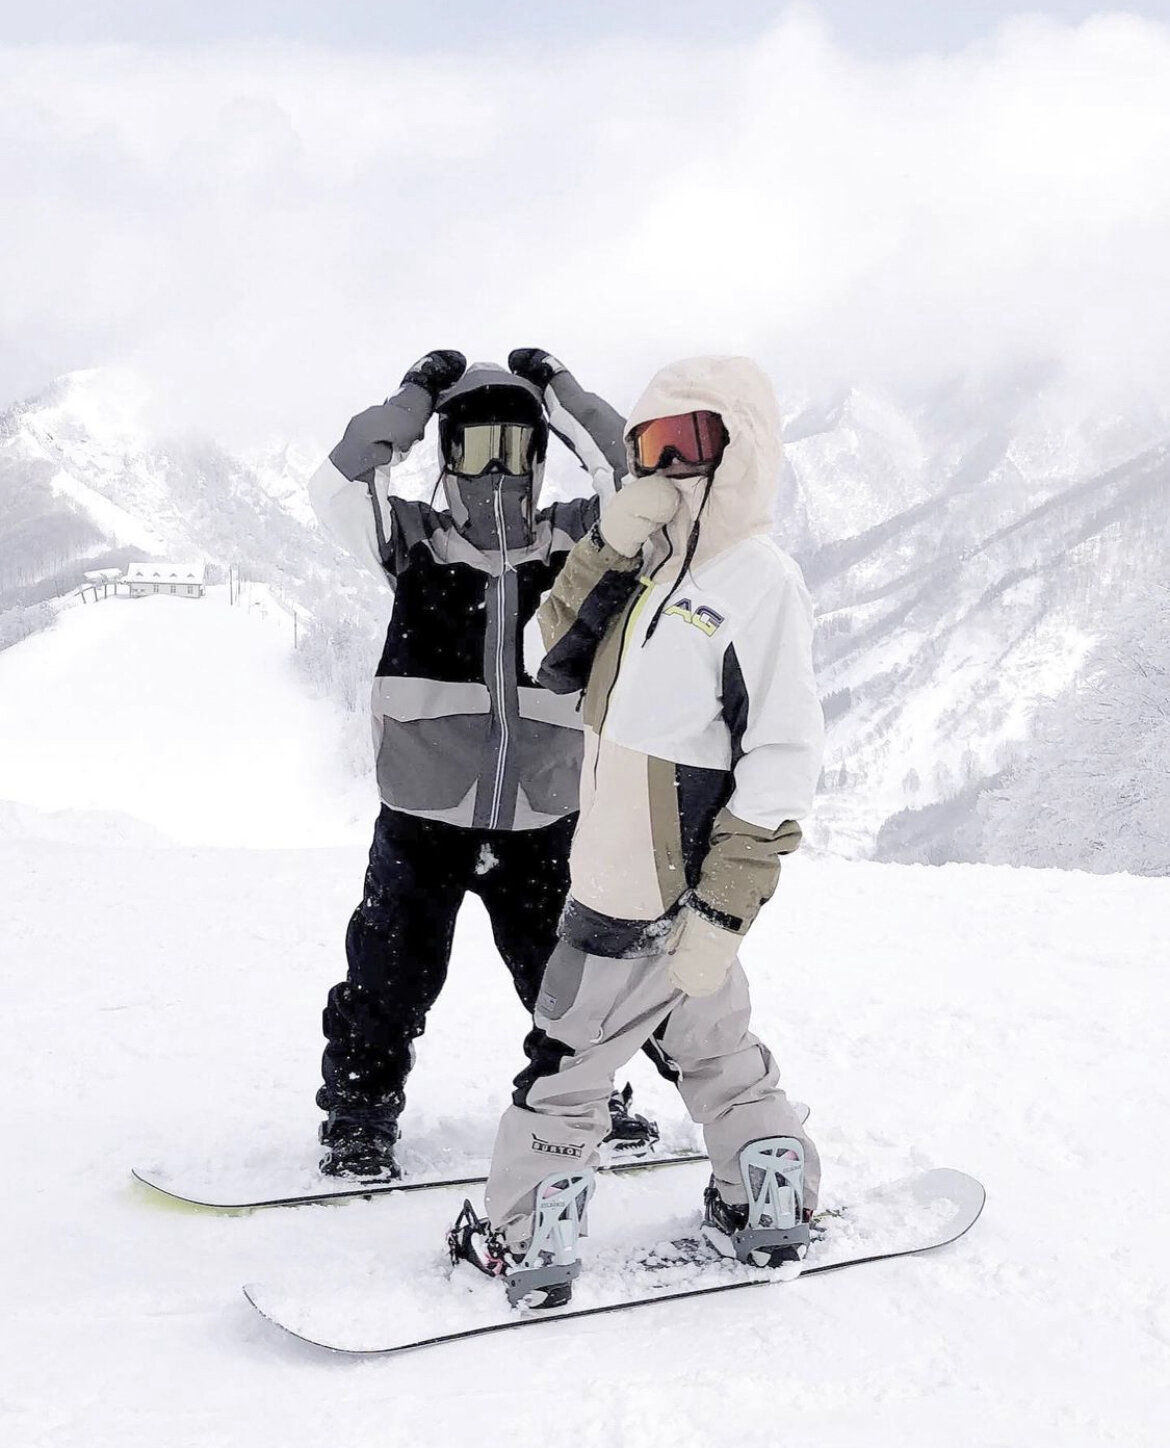snowboarder: (239, 320, 996, 1361)
